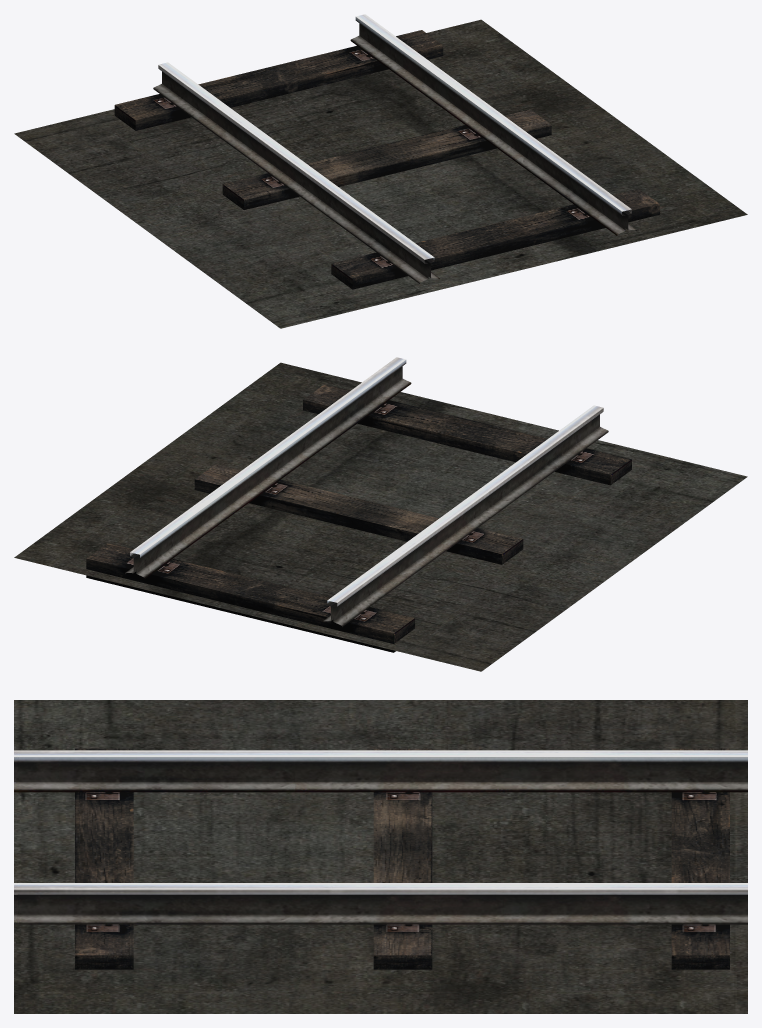
The model's file is TunnelMid.fbx.
The picture shows the model from 3 angles, top to bottom: view 1: azimuth 30°, elevation 25°; view 2: azimuth 150°, elevation 25°; view 3: azimuth 270°, elevation 25°; orthographic projection. The views are drawn at different scales.
Parts seen in each view (by area): view 1: TunnelMid; view 2: TunnelMid; view 3: TunnelMid.
Part boxes in pixels (x1=…): TunnelMid: x1=14, y1=14, x2=747, y2=328; TunnelMid: x1=14, y1=357, x2=747, y2=671; TunnelMid: x1=14, y1=700, x2=747, y2=1013.
Bounding box in the file's own units: 380 × 33.02 × 375.
